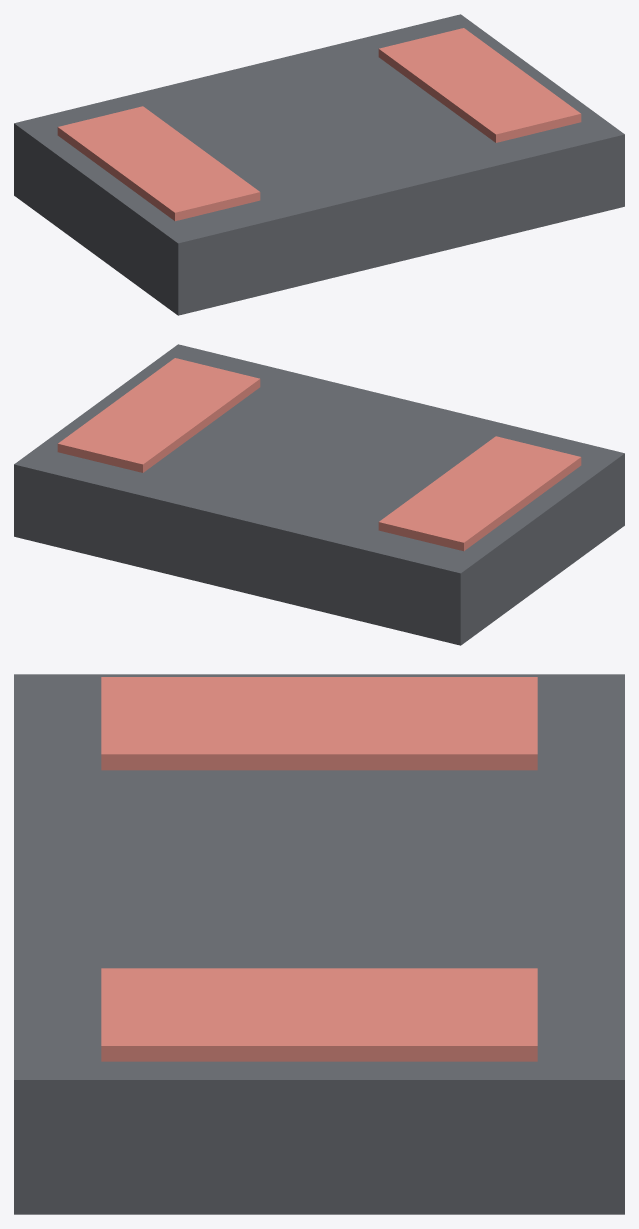
Rendered from item_31_cassette.glb.
3 renders of one model, top to bottom at view 1: azimuth 30°, elevation 25°; view 2: azimuth 150°, elevation 25°; view 3: azimuth 270°, elevation 25°, orthographic. The views are drawn at different scales.
Parts seen in each view (by area): view 1: Tape_Shell, Tape_Label0, Tape_Label1; view 2: Tape_Shell, Tape_Label0, Tape_Label1; view 3: Tape_Shell, Tape_Label0, Tape_Label1.
Boxes of the visible parts, bbox=[...] form: Tape_Shell: bbox=[14, 14, 624, 315]; Tape_Label0: bbox=[57, 106, 260, 221]; Tape_Label1: bbox=[378, 28, 581, 142]; Tape_Shell: bbox=[14, 344, 624, 645]; Tape_Label0: bbox=[378, 436, 581, 551]; Tape_Label1: bbox=[57, 358, 260, 472]; Tape_Shell: bbox=[14, 674, 624, 1214]; Tape_Label0: bbox=[101, 677, 537, 770]; Tape_Label1: bbox=[101, 968, 537, 1061].
Bounding box in the file's own units: 0.11 × 0.019 × 0.07.
